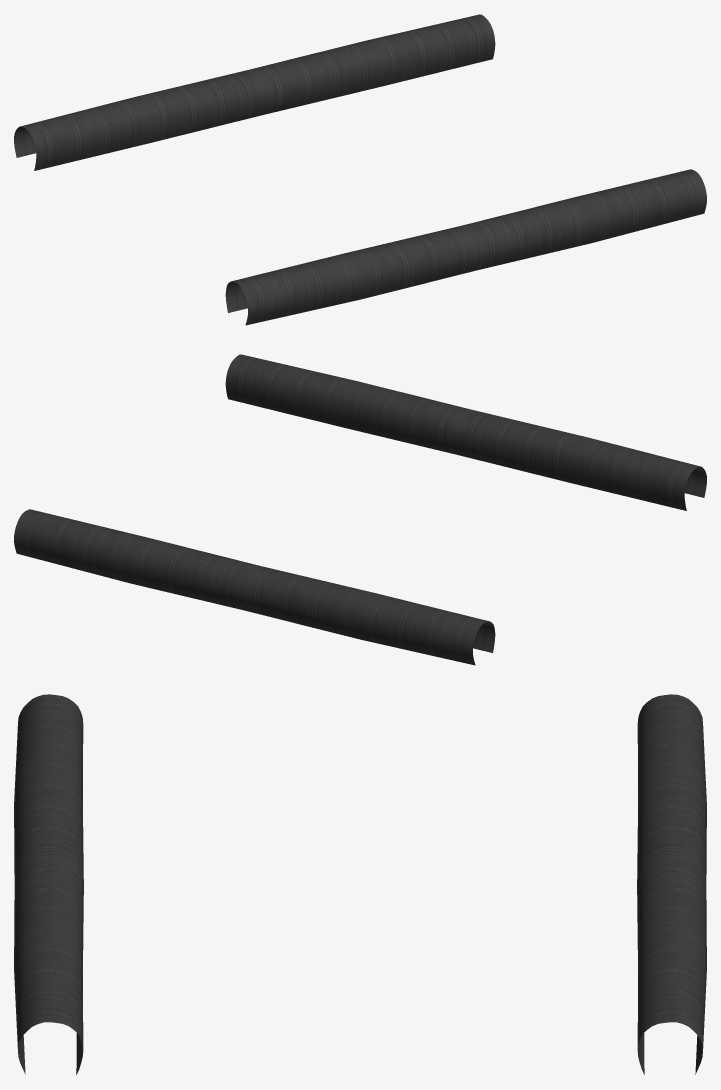
Rendered from small_black_edge_straight_complex.dae.
3 renders of one model, top to bottom at view 1: azimuth 30°, elevation 25°; view 2: azimuth 150°, elevation 25°; view 3: azimuth 270°, elevation 25°, orthographic. The views are drawn at different scales.
Visible parts, largest first — view 1: small_black_edge_straight; view 2: small_black_edge_straight; view 3: small_black_edge_straight.
Boxes of the visible parts, box(x1,y1,x2,y2) form: small_black_edge_straight: box(14, 14, 706, 325); small_black_edge_straight: box(14, 354, 706, 665); small_black_edge_straight: box(14, 694, 706, 1074).
Size of the model in its own units: 1 by 0.8934 by 0.0789.
Materials: 1 (1 with a texture image).
